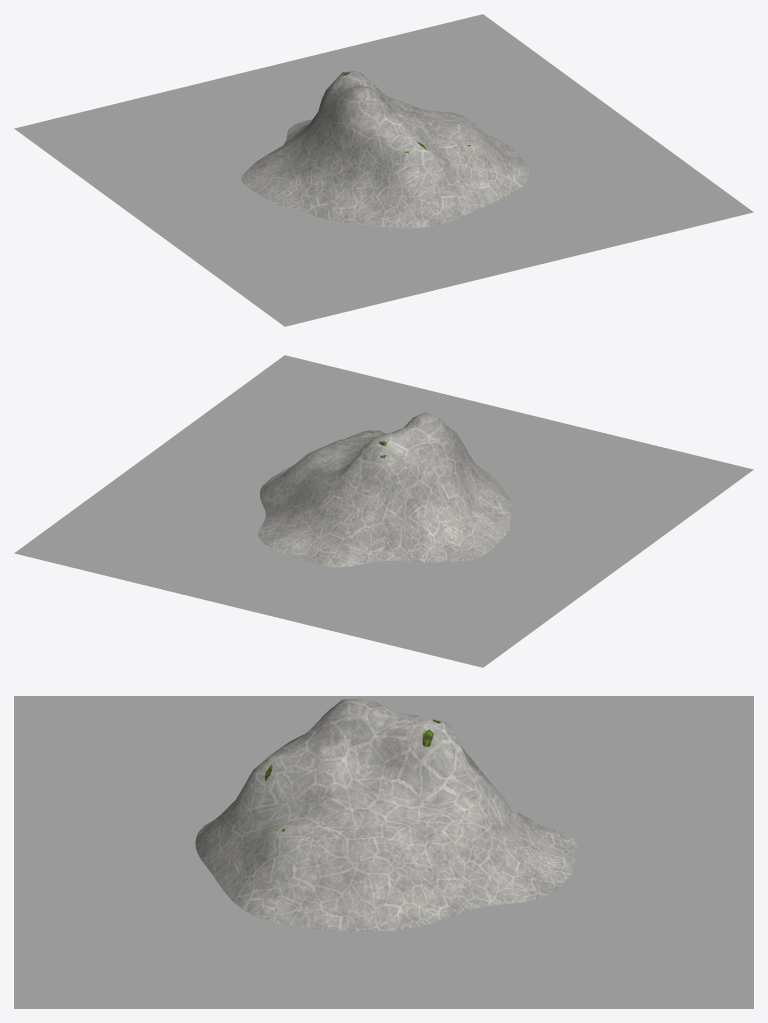
File: eggs.fbx
3 renders of one model, top to bottom at view 1: azimuth 30°, elevation 25°; view 2: azimuth 150°, elevation 25°; view 3: azimuth 270°, elevation 25°, orthographic. The views are drawn at different scales.
Visible parts, largest first — view 1: pPlane1, edges_web; view 2: pPlane1, edges_web; view 3: pPlane1, edges_web.
Boxes of the visible parts, <box> form: pPlane1: <box>14,14,753,326</box>; edges_web: <box>241,71,528,228</box>; pPlane1: <box>14,355,753,667</box>; edges_web: <box>258,411,512,567</box>; pPlane1: <box>14,696,753,1008</box>; edges_web: <box>195,698,576,931</box>.
Bounding box in the file's own units: 150 × 150 × 30.6.
